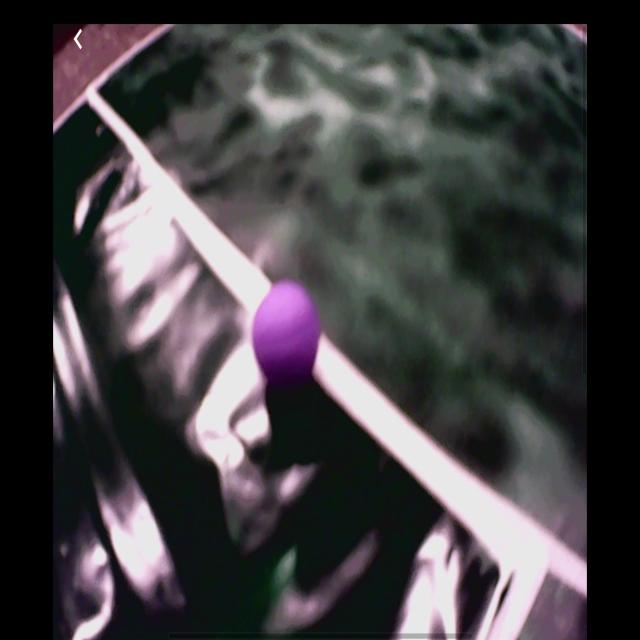ball: (255, 282, 318, 384)
